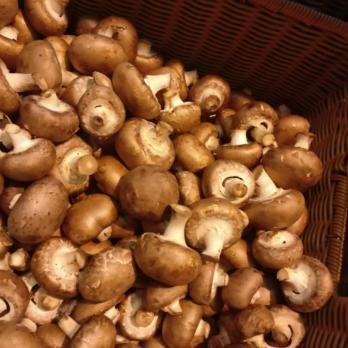Mushroom: (1, 2, 125, 348), (112, 21, 219, 348), (210, 78, 331, 348)
